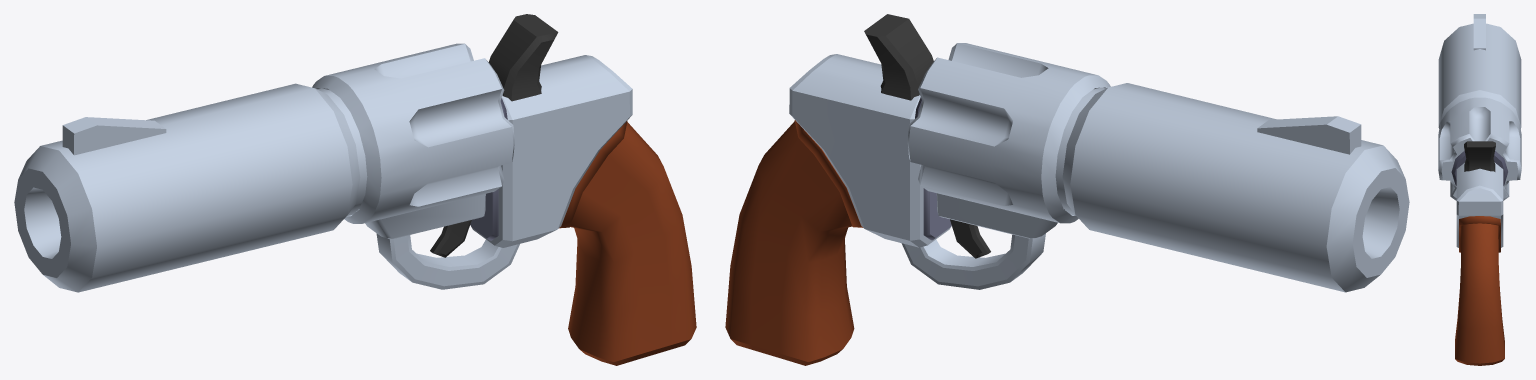
Rendered from revolver.fbx.
3 views of the same model, side by side, from view 1: azimuth 30°, elevation 25°; view 2: azimuth 150°, elevation 25°; view 3: azimuth 270°, elevation 25° (orthographic). The views are drawn at different scales.
Parts seen in each view (by area): view 1: Revolver; view 2: Revolver; view 3: Revolver.
Part boxes in pixels (x1,y1,x2,y2): Revolver: [14, 14, 696, 365]; Revolver: [725, 14, 1409, 365]; Revolver: [1438, 14, 1521, 365].
Bounding box in the file's own units: 996 × 521 × 204.
1 material, 1 textured.
